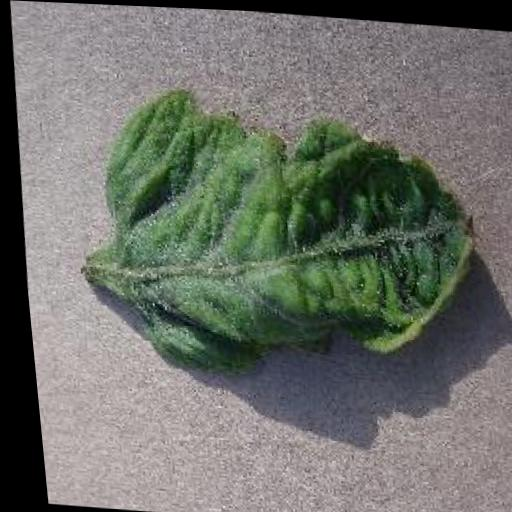Yellow Leaf Curl Virus: (79, 83, 489, 396)
